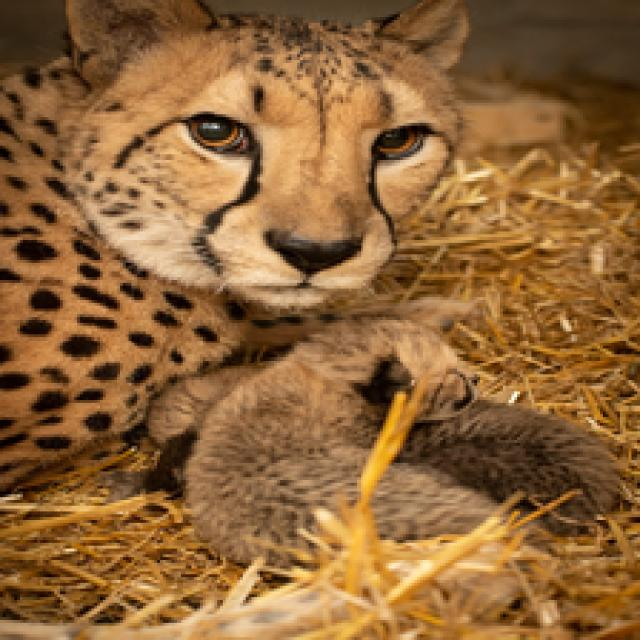cheetah: (0, 0, 470, 606), (204, 287, 588, 603)
